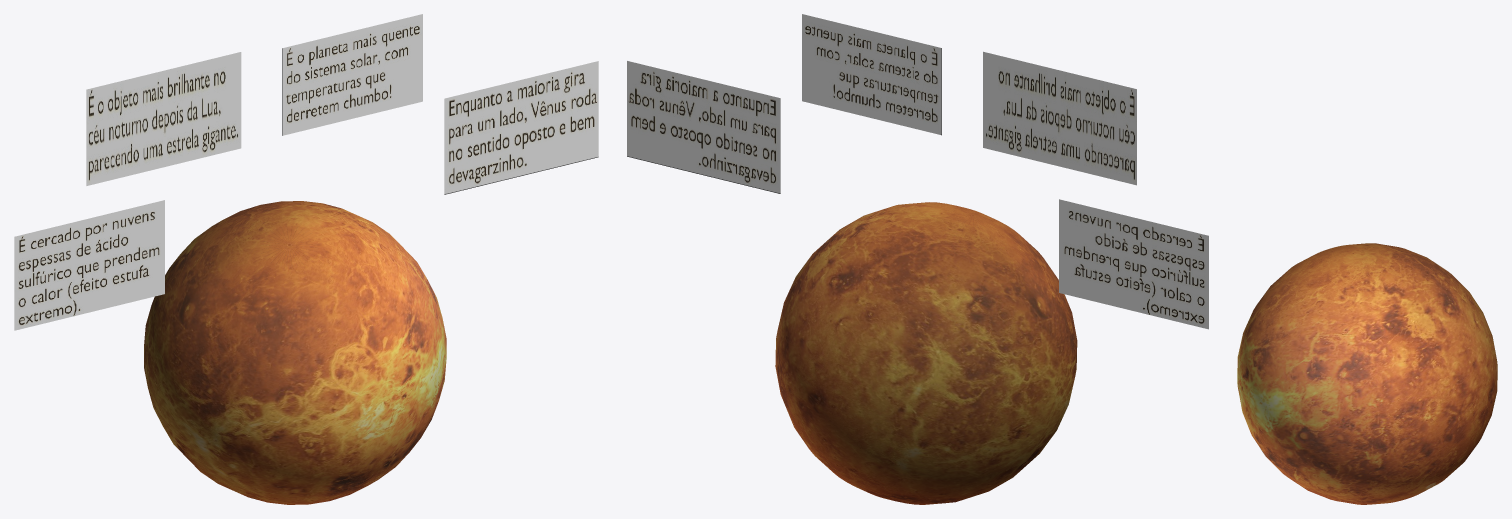
Rendered from venus.glb.
3 views of the same model, side by side, from view 1: azimuth 30°, elevation 25°; view 2: azimuth 150°, elevation 25°; view 3: azimuth 270°, elevation 25° (orthographic). The views are drawn at different scales.
Parts seen in each view (by area): view 1: Terra.002, Plane.012, Plane.014, Plane.015, Plane.013; view 2: Terra.002, Plane.012, Plane.014, Plane.015, Plane.013; view 3: Terra.002.
Boxes of the visible parts, x1=… form: Terra.002: x1=144, y1=201, x2=446, y2=504; Plane.012: x1=86, y1=52, x2=241, y2=185; Plane.014: x1=444, y1=61, x2=598, y2=194; Plane.015: x1=14, y1=200, x2=164, y2=330; Plane.013: x1=282, y1=14, x2=422, y2=135; Terra.002: x1=775, y1=202, x2=1077, y2=504; Plane.012: x1=983, y1=51, x2=1136, y2=185; Plane.014: x1=627, y1=61, x2=780, y2=193; Plane.015: x1=1059, y1=199, x2=1208, y2=329; Plane.013: x1=802, y1=14, x2=941, y2=135; Terra.002: x1=1237, y1=243, x2=1497, y2=504.
Bounding box in the file's own units: 2.89 × 2.14 × 1.3.
Materials: 2 (2 with a texture image).
